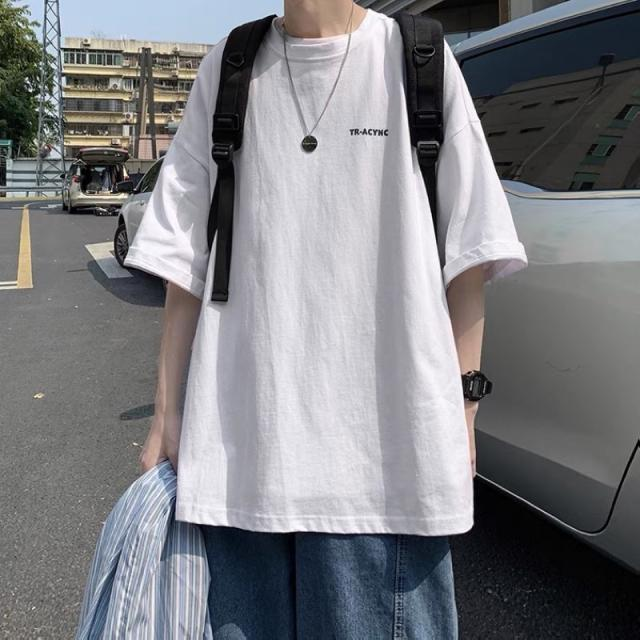Shirt: (120, 11, 530, 540)
